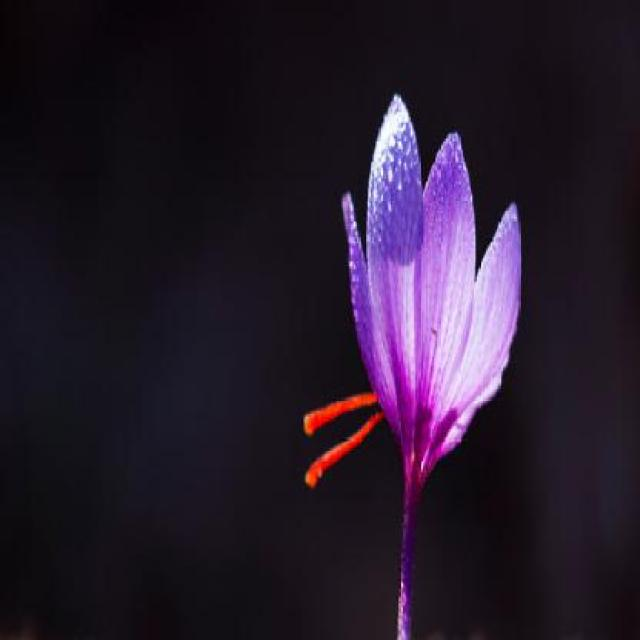Flower: (333, 77, 525, 520)
stigma: (299, 410, 392, 490), (301, 392, 384, 437)
